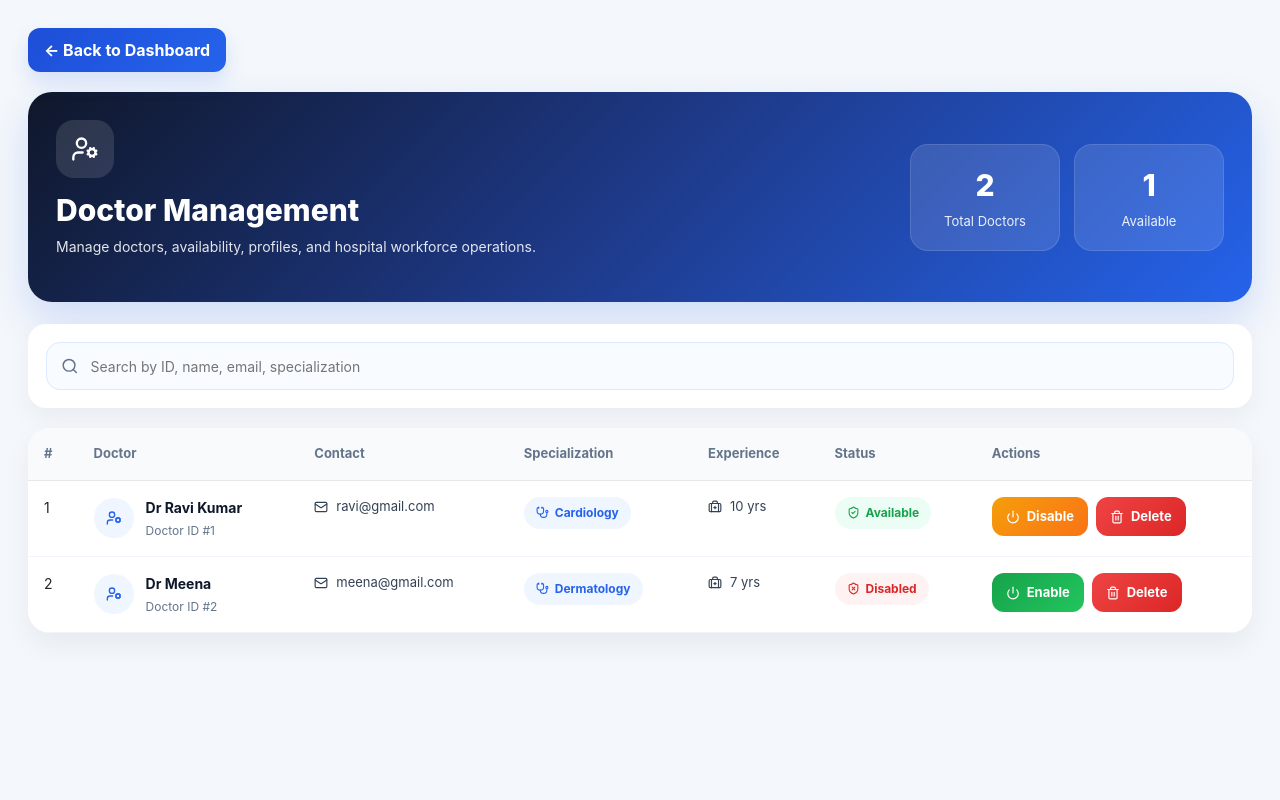
it: AdminDoctors › search works
Type "meena" into the field with placeholder "Search by ID, name, email, specialization".
click(654, 366); type("meena")  # box [89,355,1219,378]
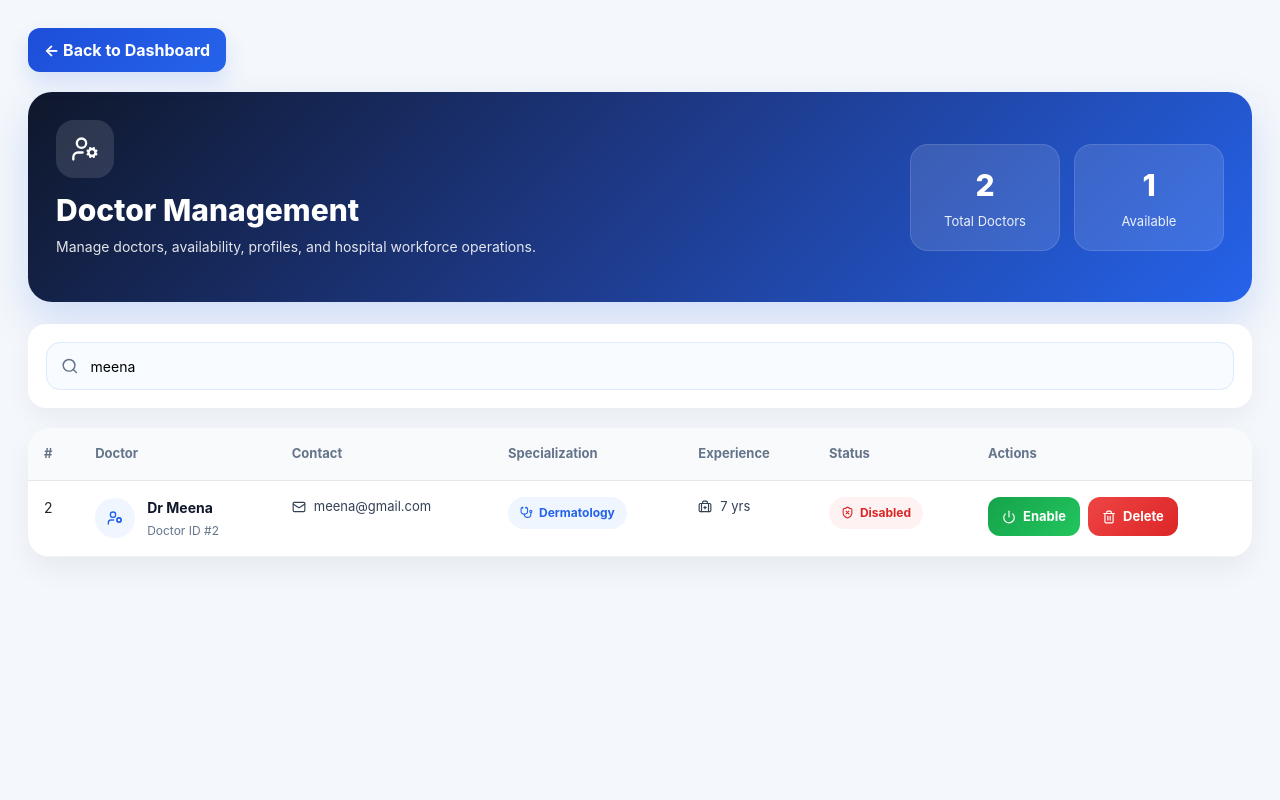
Expected: the text "Dr Meena" is shown, [147,497,219,518]
Now the text "Dr Ravi Kumar" is gone
